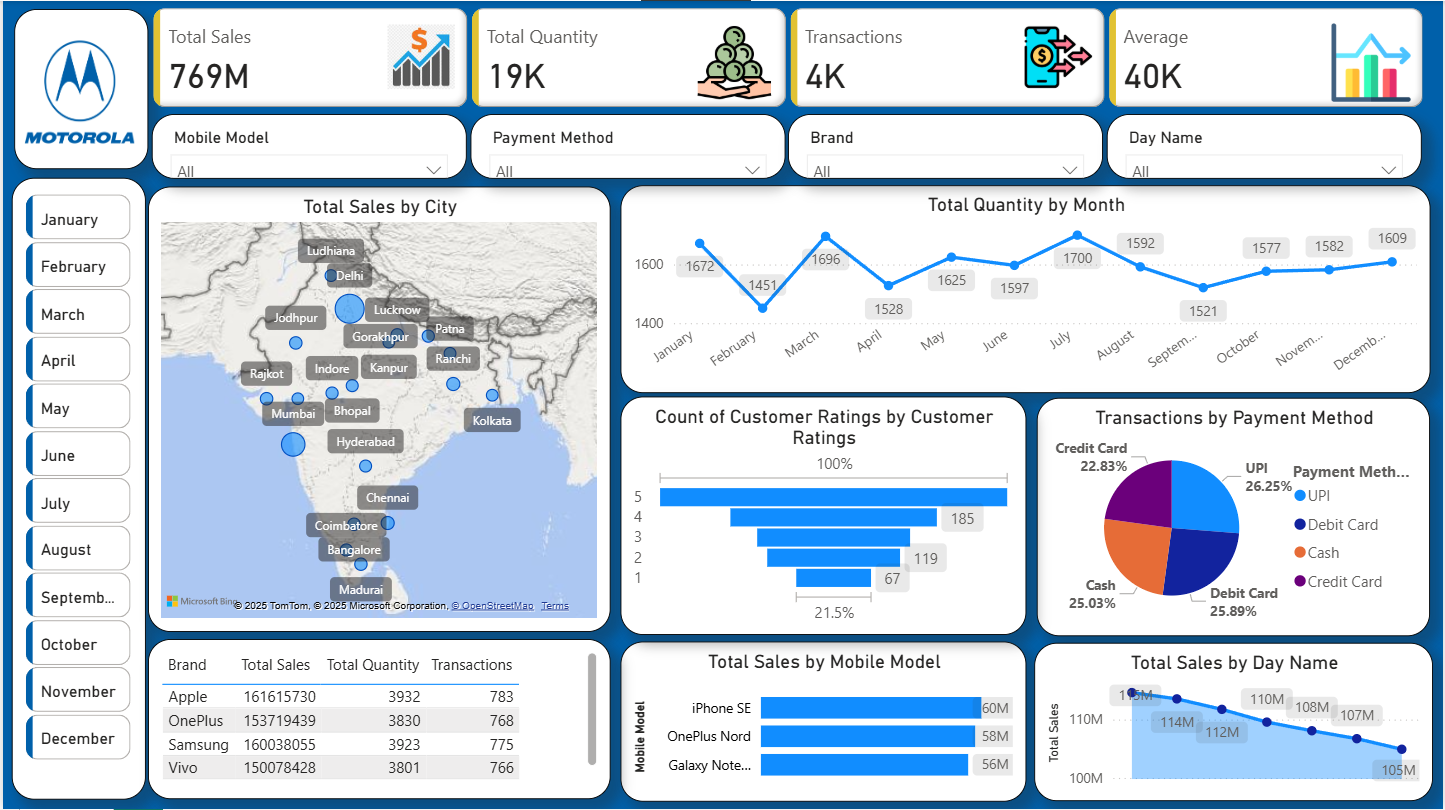

This screenshot's page, from the dashboard's own definition file:
{"tool":"powerbi","page":{"name":"Page 1","canvas":[1280,720],"ordinal":0},"visuals":[{"type":"shape","box":[9.7,8.4,119.4,142.4],"z":0},{"type":"image","box":[13.3,31.4,109.8,103.8],"z":1000},{"type":"shape","box":[7.2,159.3,119.4,552.5],"z":2000},{"type":"advancedSlicerVisual","fields":{"Values":["Sheet1.Date.Variation.Date Hierarchy.Month"]},"box":[15.7,168.9,103.8,521.2],"z":3000},{"type":"cardVisual","fields":{"Data":["Sales_data.Total Sales","Sales_data.Total Quantity","Sales_data.Transactions","Sales_data.Average"]},"box":[129.1,3.6,1140.1,98.9],"z":4000},{"type":"map","fields":{"Category":["Sales_data.City"],"Size":["Sales_data.Total Sales"]},"box":[129.1,166.5,411.4,395.7],"z":5000},{"type":"lineChart","fields":{"Y":["Sales_data.Total Quantity"],"Category":["Sales_data.Date.Variation.Date Hierarchy.Month","Sales_data.Date.Variation.Date Hierarchy.Day"]},"box":[548.9,165.3,720.2,184.6],"z":6000},{"type":"clusteredBarChart","fields":{"Category":["Sales_data.Mobile Model"],"Y":["Sales_data.Total Sales"]},"box":[548.9,570.6,360.7,142.4],"z":7000},{"type":"pieChart","fields":{"Category":["Sales_data.Payment Method"],"Y":["Sales_data.Transactions"]},"box":[919.3,354.7,349.9,212.3],"z":8000},{"type":"funnel","fields":{"Category":["Sales_data.Customer Ratings"],"Y":["CountNonNull(Sales_data.Customer Ratings)"]},"box":[548.9,353.5,360.7,212.3],"z":9000},{"type":"areaChart","fields":{"Category":["Sales_data.Day Name"],"Y":["Sales_data.Total Sales"]},"box":[916.9,571.9,354.7,141.2],"z":10000},{"type":"tableEx","fields":{"Values":["Sales_data.Brand","Sales_data.Total Sales","Sales_data.Total Quantity","Sales_data.Transactions"]},"box":[129.1,569.4,411.4,142.4],"z":11000},{"type":"slicer","fields":{"Values":["Sales_data.Mobile Model"]},"box":[132.7,102.5,279.9,57.9],"z":12000},{"type":"slicer","fields":{"Values":["Sales_data.Payment Method"]},"box":[415,102.5,279.9,57.9],"z":13000},{"type":"slicer","fields":{"Values":["Sales_data.Brand"]},"box":[697.3,102.5,279.9,57.9],"z":14000},{"type":"slicer","fields":{"Values":["Sales_data.Day Name"]},"box":[980.8,102.5,279.9,57.9],"z":15000}]}

Visuals, with their boxes in screenshot pixels (x1, y1, x2, y2), scaled from the page's 1280x720 canvas onto the 1445x810 screenshot:
shape: (x1=11, y1=9, x2=146, y2=170)
image: (x1=15, y1=35, x2=139, y2=152)
shape: (x1=8, y1=179, x2=143, y2=801)
advancedSlicerVisual - Sheet1.Date.Variation.Date Hierarchy.Month: (x1=18, y1=190, x2=135, y2=776)
cardVisual - Sales_data.Total Sales x Sales_data.Total Quantity: (x1=146, y1=4, x2=1433, y2=115)
map - Sales_data.City x Sales_data.Total Sales: (x1=146, y1=187, x2=610, y2=632)
lineChart - Sales_data.Total Quantity x Sales_data.Date.Variation.Date Hierarchy.Month: (x1=620, y1=186, x2=1433, y2=394)
clusteredBarChart - Sales_data.Mobile Model x Sales_data.Total Sales: (x1=620, y1=642, x2=1027, y2=802)
pieChart - Sales_data.Payment Method x Sales_data.Transactions: (x1=1038, y1=399, x2=1433, y2=638)
funnel - Sales_data.Customer Ratings x CountNonNull(Sales_data.Customer Ratings): (x1=620, y1=398, x2=1027, y2=637)
areaChart - Sales_data.Day Name x Sales_data.Total Sales: (x1=1035, y1=643, x2=1436, y2=802)
tableEx - Sales_data.Brand x Sales_data.Total Sales: (x1=146, y1=641, x2=610, y2=801)
slicer - Sales_data.Mobile Model: (x1=150, y1=115, x2=466, y2=180)
slicer - Sales_data.Payment Method: (x1=468, y1=115, x2=784, y2=180)
slicer - Sales_data.Brand: (x1=787, y1=115, x2=1103, y2=180)
slicer - Sales_data.Day Name: (x1=1107, y1=115, x2=1423, y2=180)
